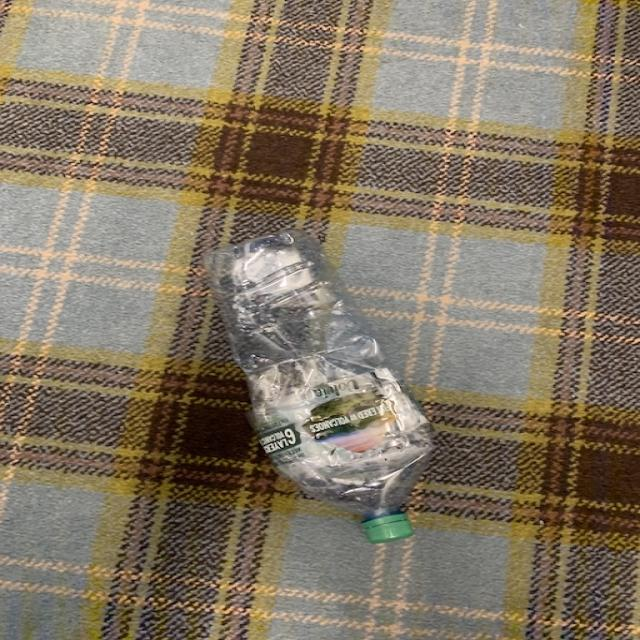Waste: (206, 231, 432, 543)
